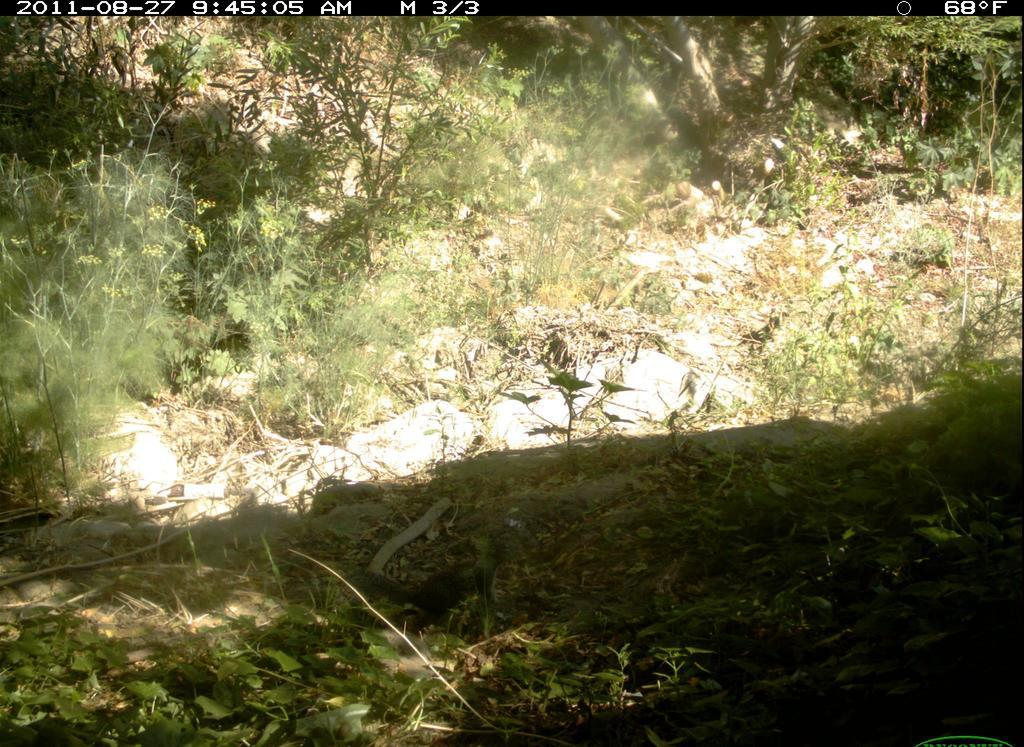squirrel: (340, 533, 520, 634)
